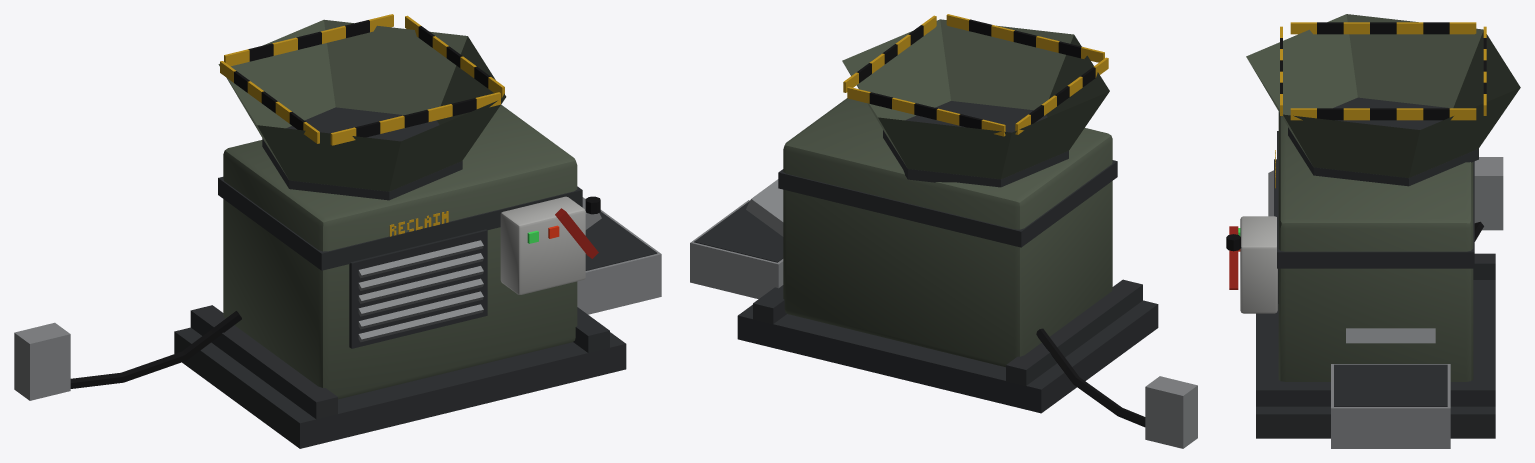
The model's file is recycler.glb.
3 views of the same model, side by side, from view 1: azimuth 30°, elevation 25°; view 2: azimuth 150°, elevation 25°; view 3: azimuth 270°, elevation 25° (orthographic). The views are drawn at different scales.
Visible parts, largest first — view 1: Piece_lod0; view 2: Piece_lod0; view 3: Piece_lod0.
Boxes of the visible parts, box(x1,y1,x2,y2) form: Piece_lod0: box(14, 14, 661, 448); Piece_lod0: box(690, 14, 1197, 448); Piece_lod0: box(1226, 14, 1520, 448).
Size of what is drawn, in the model's own units: 4.1 by 2.07 by 1.97.
